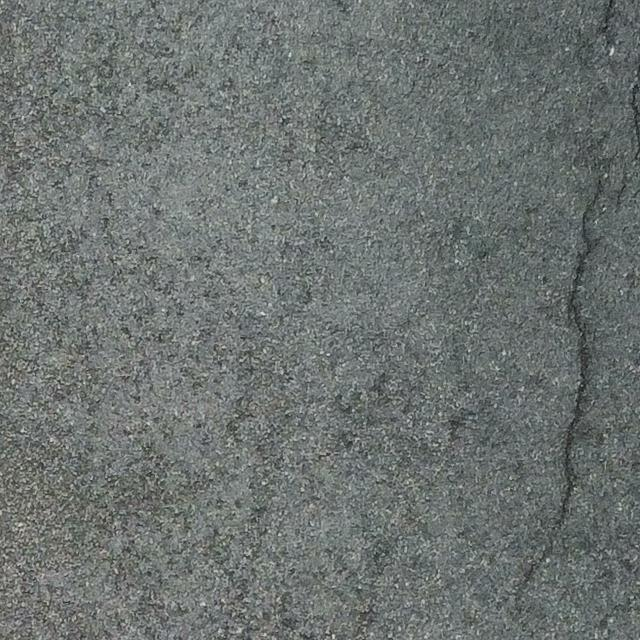LongitudinalCrack: (524, 180, 602, 583)
